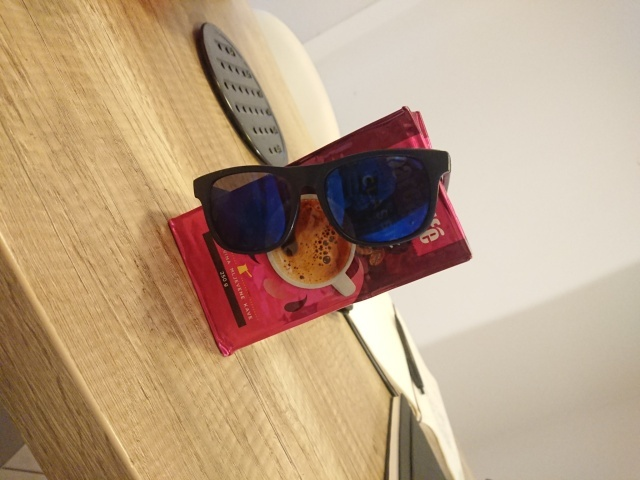Barcaffe Classic Original 225g: (165, 103, 475, 359)
